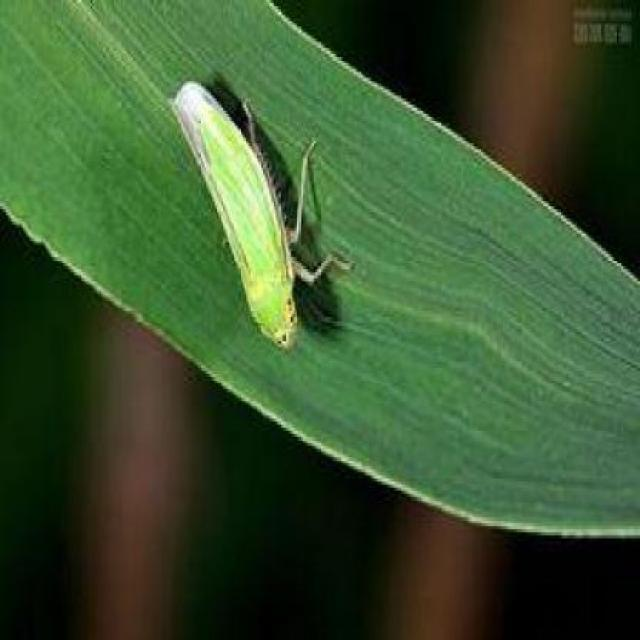green-leafhopper: (169, 74, 351, 355)
